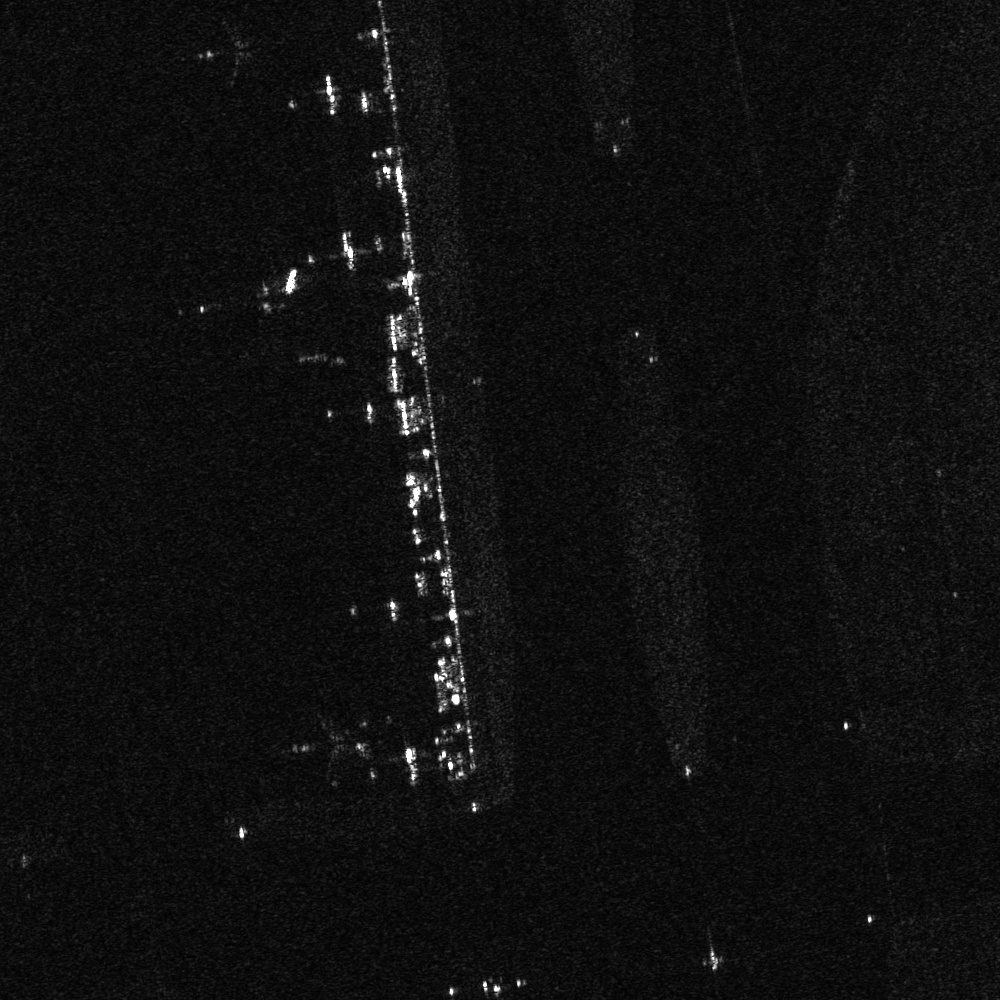Boeing737: (188, 16, 263, 92)
Boeing787: (286, 709, 358, 785)
